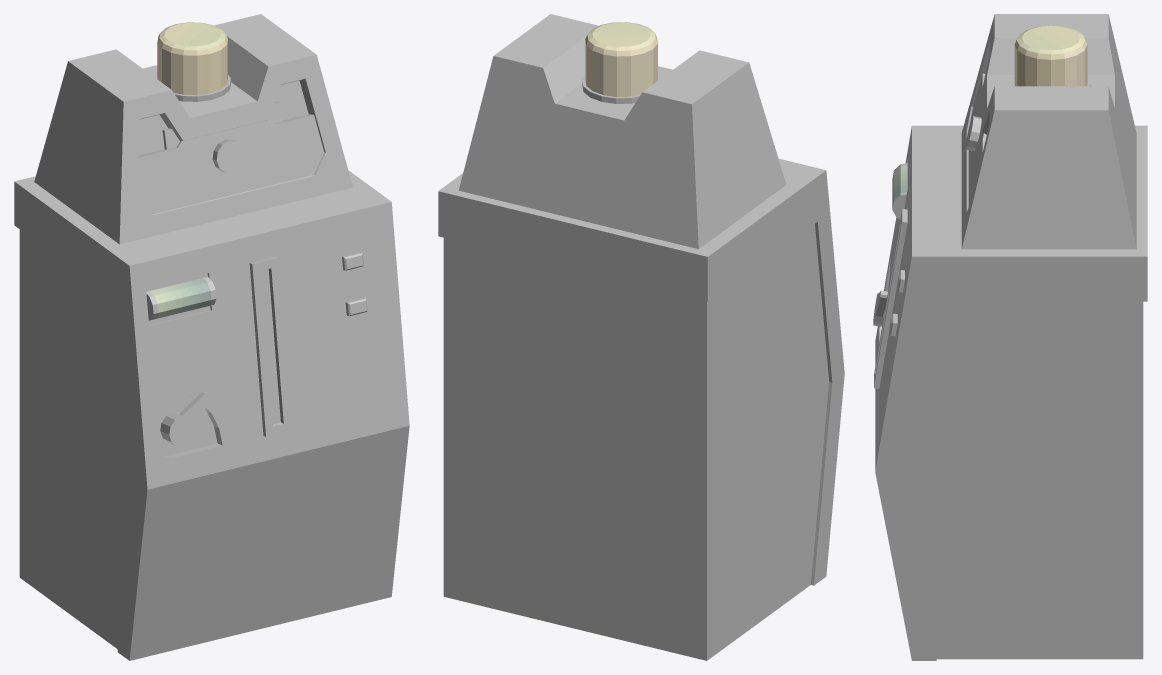
The model's file is CoinA.fbx.
3 renders of one model, left to right at view 1: azimuth 30°, elevation 25°; view 2: azimuth 150°, elevation 25°; view 3: azimuth 270°, elevation 25°, orthographic. The views are drawn at different scales.
Visible parts, largest first — view 1: SM_VA_CoinA.mo; view 2: SM_VA_CoinA.mo; view 3: SM_VA_CoinA.mo.
Boxes of the visible parts, <box> form: SM_VA_CoinA.mo: <box>14,14,409,660</box>; SM_VA_CoinA.mo: <box>438,14,844,660</box>; SM_VA_CoinA.mo: <box>873,14,1147,660</box>.
Size of the model in its own units: 2 by 3.97 by 1.77.
